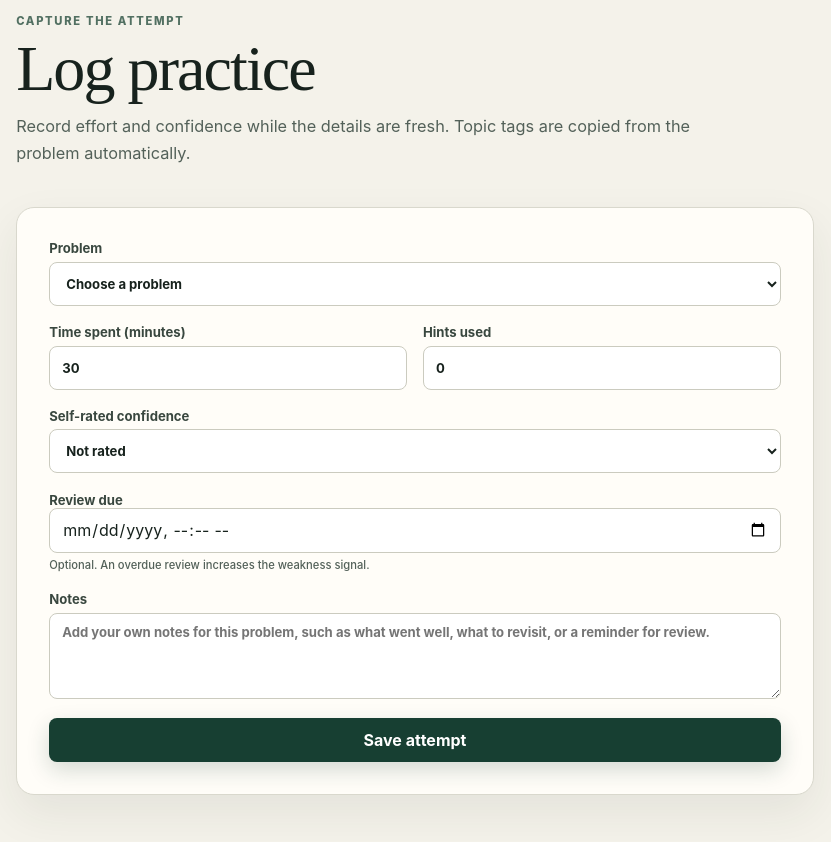
Test: PracticePage › resets the form after a successful save
Select "Two Sum · Easy · Amazon" in the dropdown labelled "Problem" at (415, 284), box top-left (49, 262), bottom-right (781, 306)
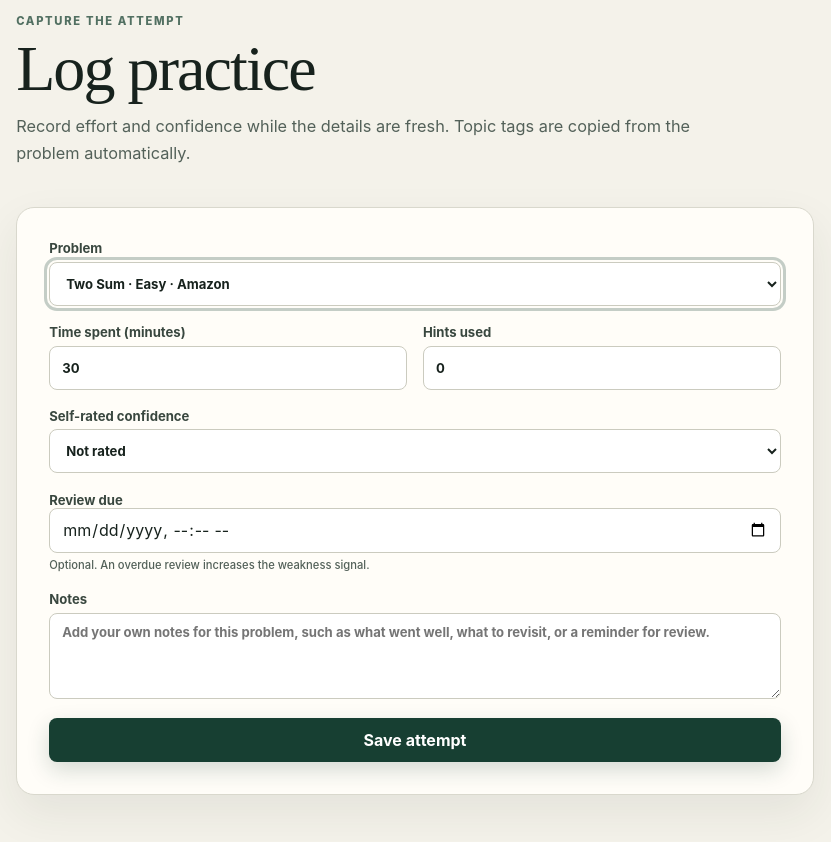
Replace the text in the number field labelled "Time spent (minutes)" with "45" at (228, 368), box top-left (49, 346), bottom-right (407, 390)
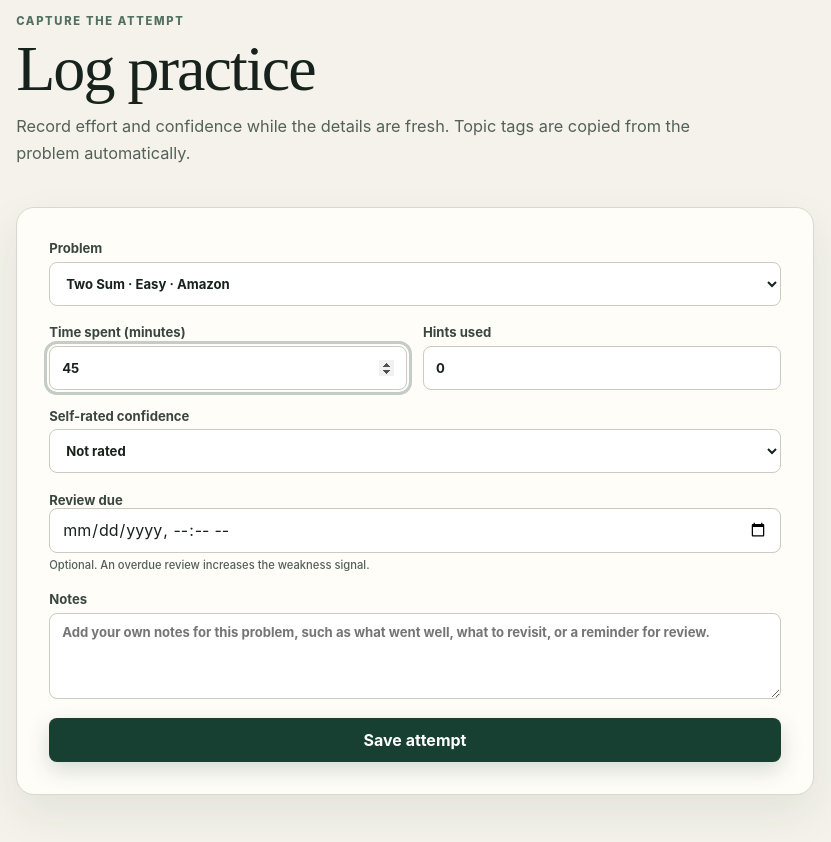
Replace the text in the number field labelled "Hints used" with "2" at (602, 368), box top-left (423, 346), bottom-right (781, 390)
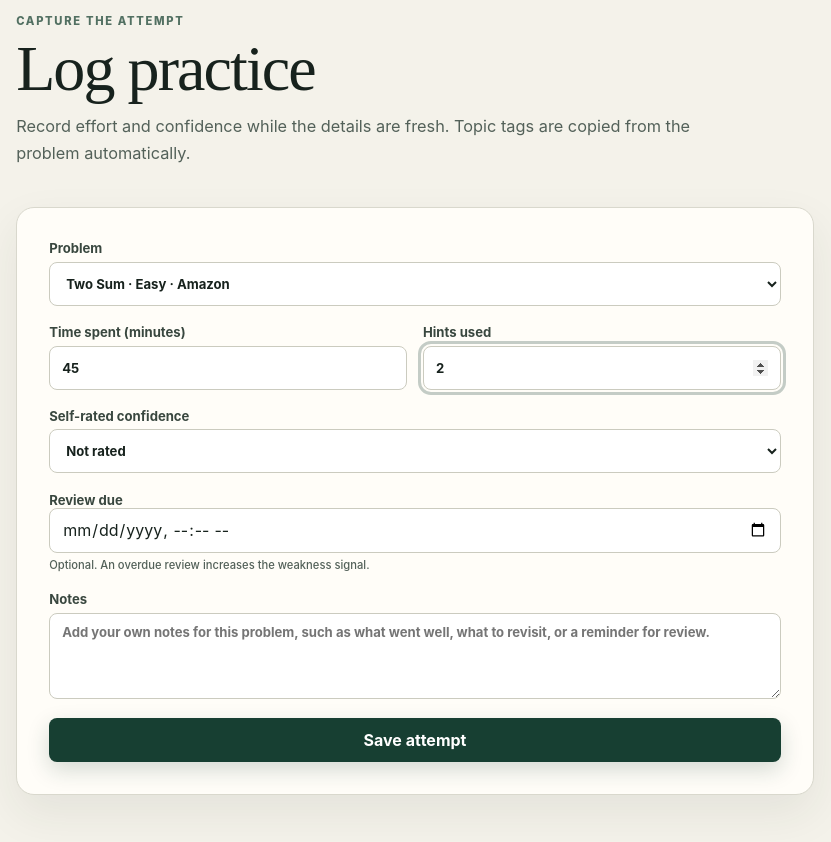
Click the button "Save attempt".
click(415, 740)  # box top-left (49, 718), bottom-right (781, 762)
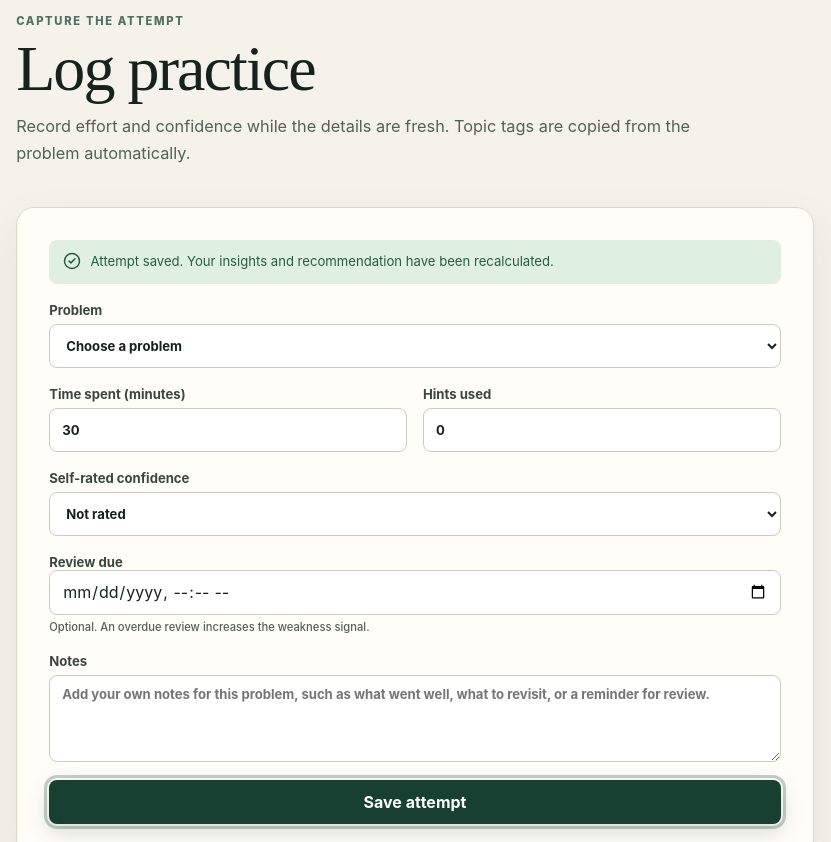
expect the text "Attempt saved. Your insights and recommendation have been recalculated." is shown: met, box top-left (49, 240), bottom-right (781, 284)
expect the number field labelled "Time spent (minutes)" holds "30": met, box top-left (49, 408), bottom-right (407, 452)
expect the number field labelled "Hints used" holds "0": met, box top-left (423, 408), bottom-right (781, 452)
